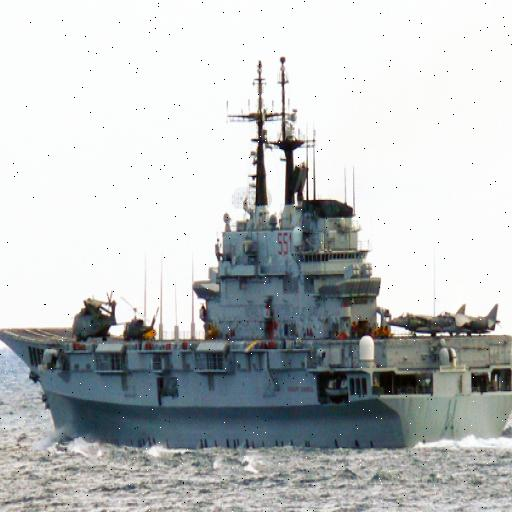Portanaves: (1, 56, 512, 453)
